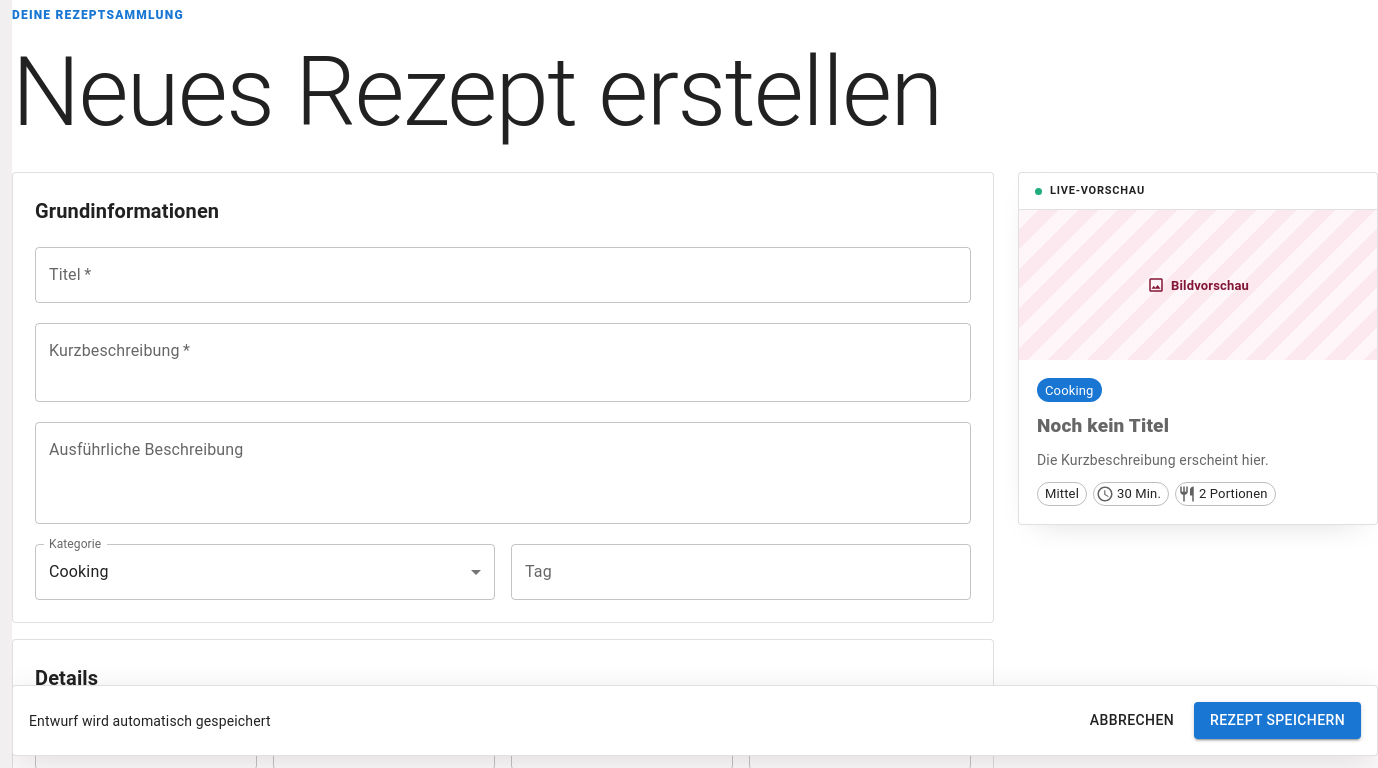
RecipeForm › persists the form state as a draft while typing
Type "Autosave-Kuchen" into the field labelled "Titel *" at (503, 275), box [35, 247, 971, 303]
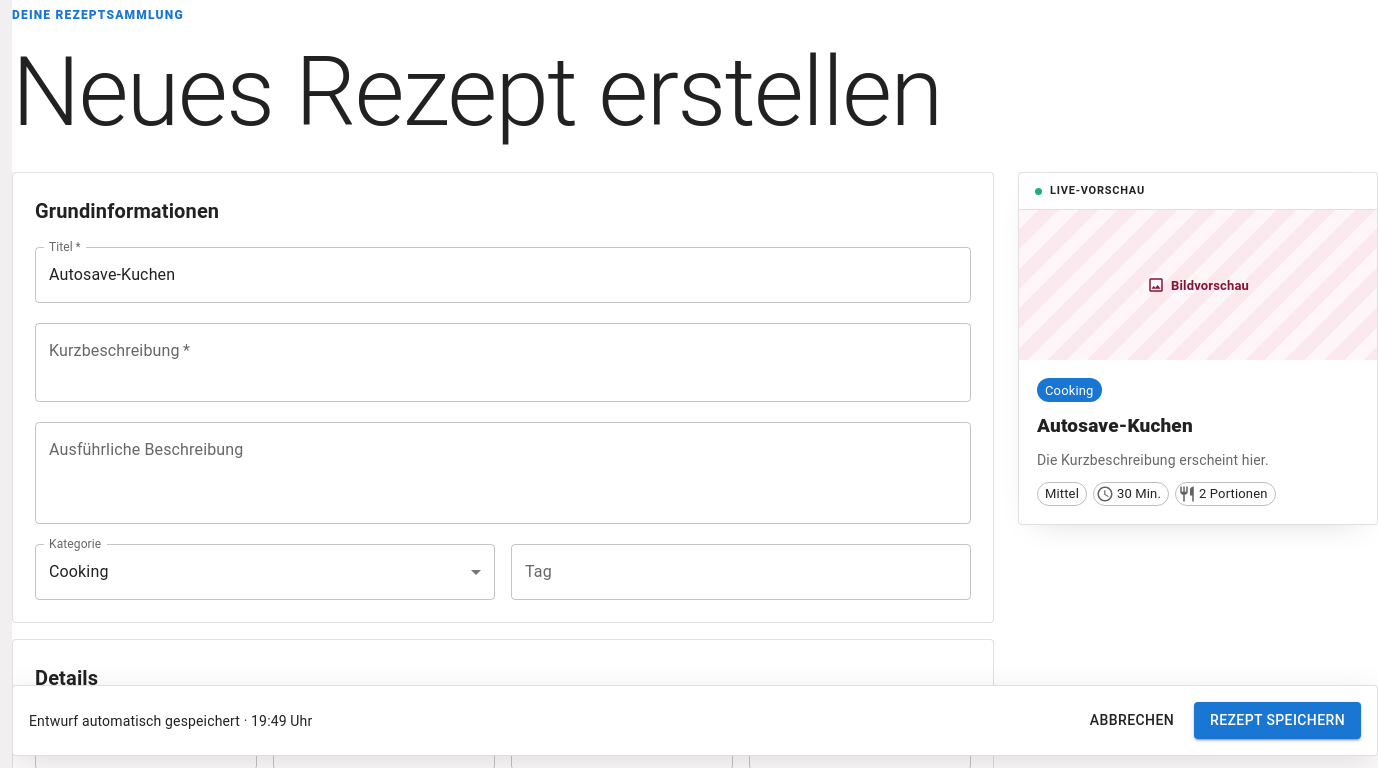
Result: the text "Autosave-Kuchen" is shown at [1037, 414, 1193, 437]
Result: the text "Entwurf automatisch gespeichert · 19:49 Uhr" is shown at [29, 711, 312, 731]
